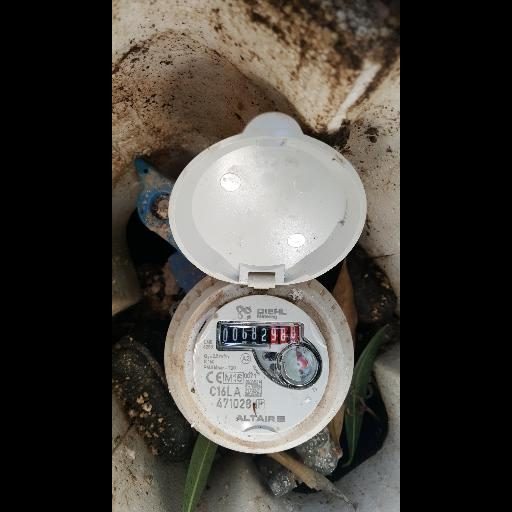0: (222, 325, 231, 343), (231, 325, 240, 343)
2: (260, 326, 270, 345)
6: (241, 325, 250, 343)
8: (249, 325, 259, 344), (280, 326, 288, 345), (290, 327, 298, 344)
9: (270, 325, 279, 344)
border_water_meter_number: (216, 321, 304, 353)
